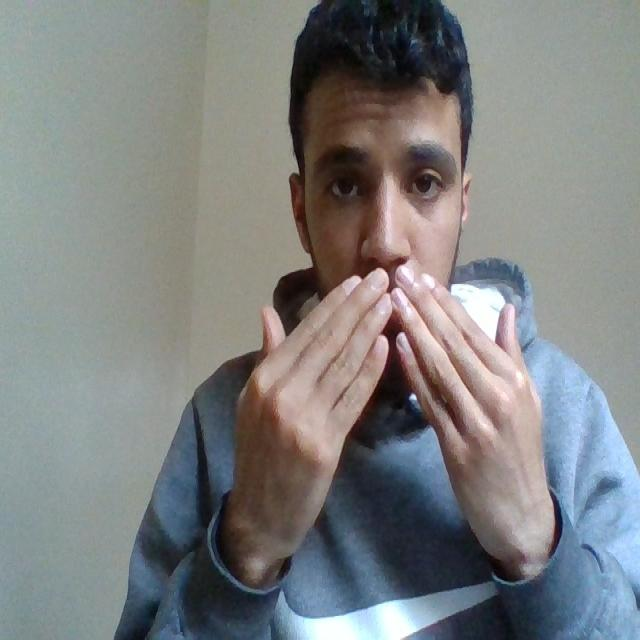Thanks: (214, 265, 577, 572)
